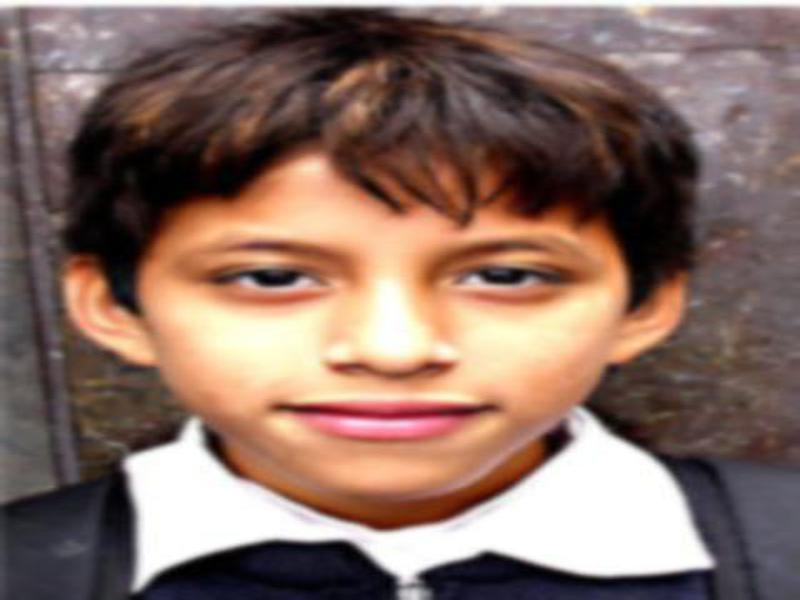without_mask: (140, 182, 619, 501)
